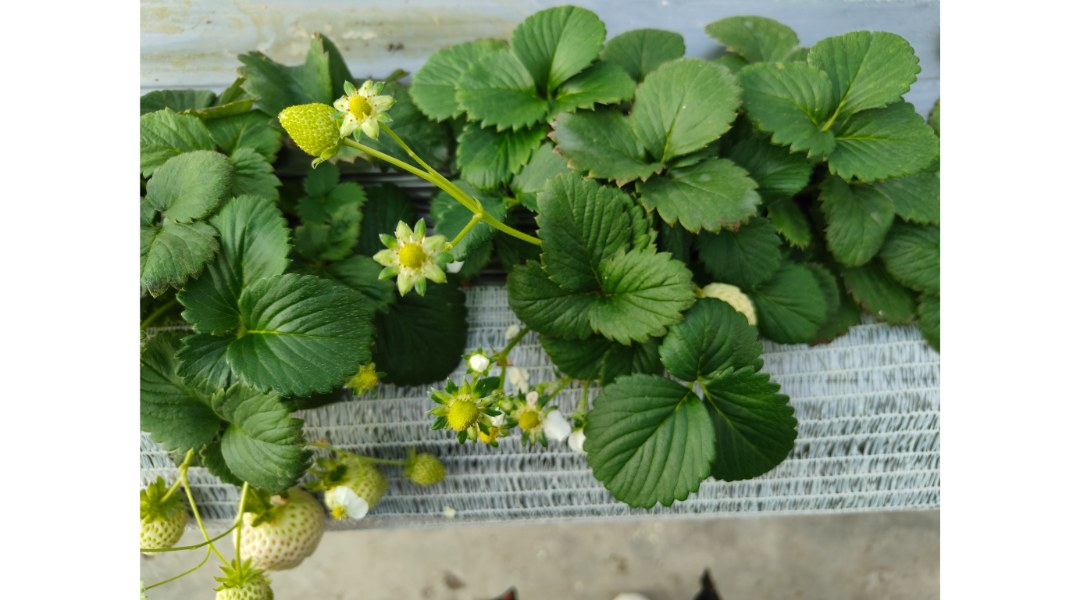berry: (223, 477, 329, 572), (427, 376, 508, 449), (126, 487, 195, 562), (311, 452, 384, 520), (272, 97, 343, 163), (215, 559, 291, 598), (403, 445, 443, 501)
flower: (363, 219, 454, 304), (327, 73, 399, 149)
strain: (382, 128, 475, 196), (354, 141, 441, 194), (486, 216, 541, 248)
